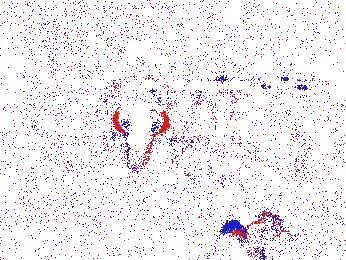flame jellyfish: (111, 91, 171, 176), (212, 212, 303, 260), (33, 216, 94, 260)
